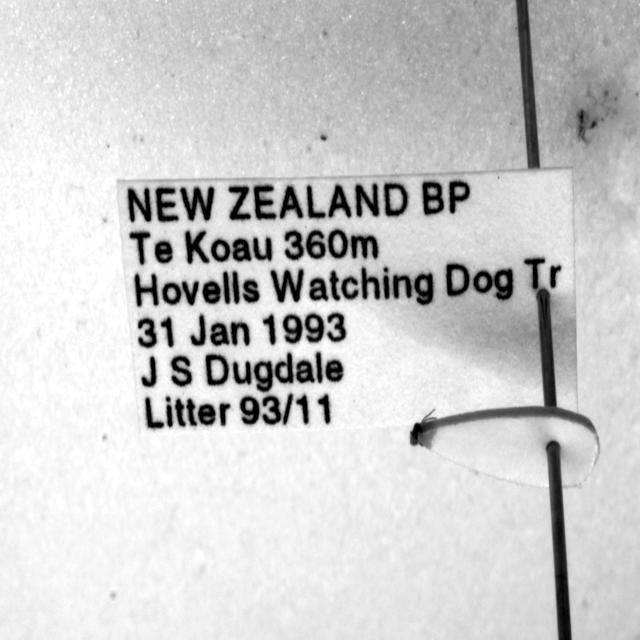typed_label: (118, 169, 578, 433)
